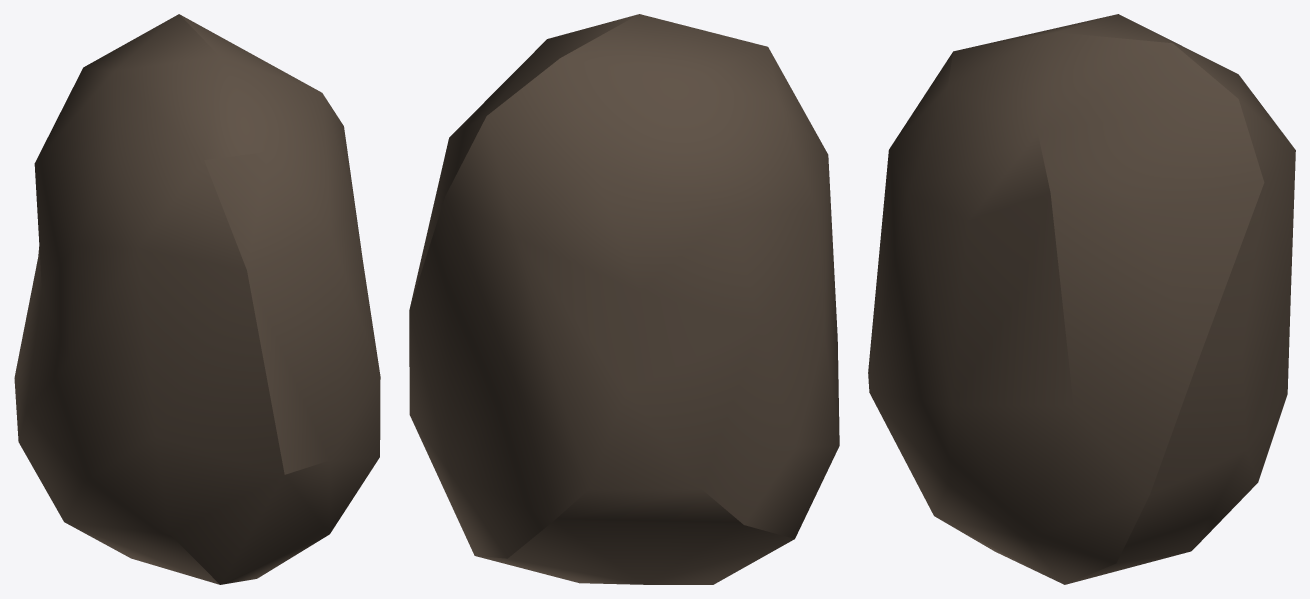
The model's file is rock_007.fbx.
The picture shows the model from 3 angles, left to right: view 1: azimuth 30°, elevation 25°; view 2: azimuth 150°, elevation 25°; view 3: azimuth 270°, elevation 25°; orthographic projection. The views are drawn at different scales.
Parts seen in each view (by area): view 1: rock.007; view 2: rock.007; view 3: rock.007.
Boxes of the visible parts, <box> form: rock.007: <box>14,14,380,584</box>; rock.007: <box>409,14,839,584</box>; rock.007: <box>868,14,1295,584</box>.
Size of the model in its own units: 73.25 by 107 by 79.8.
